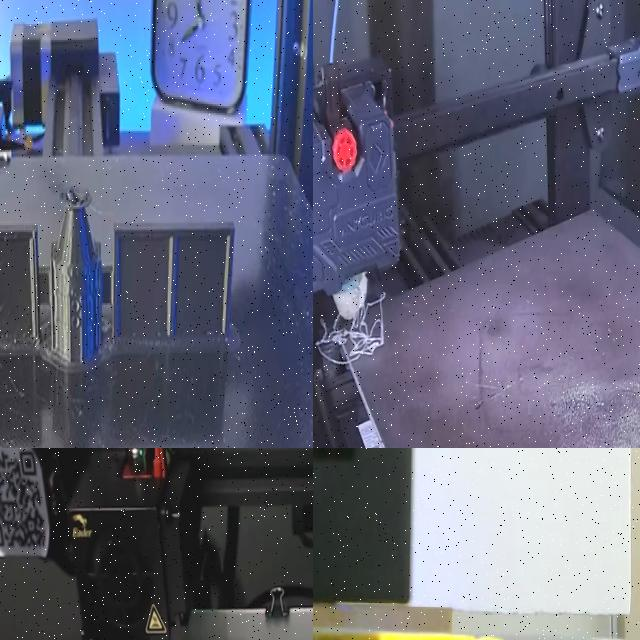spaghetti: (313, 298, 412, 368)
